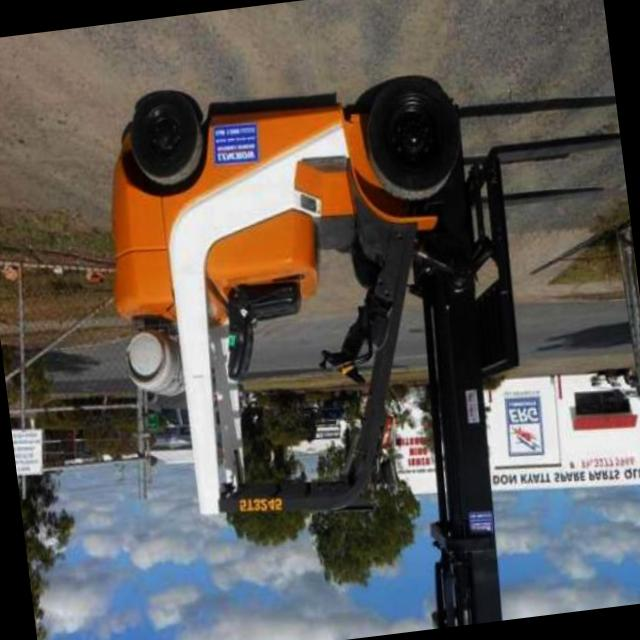forklift: (63, 26, 578, 584)
